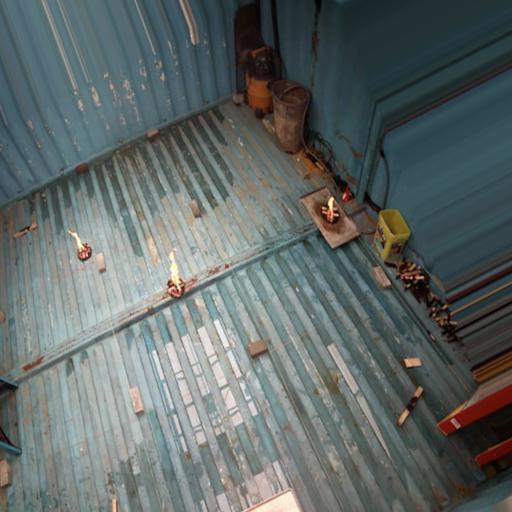Fire: (169, 253, 182, 288), (68, 231, 85, 251), (327, 196, 335, 212)
